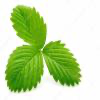Strawberry leaf: (8, 0, 47, 51), (43, 39, 83, 87), (4, 44, 42, 94)
